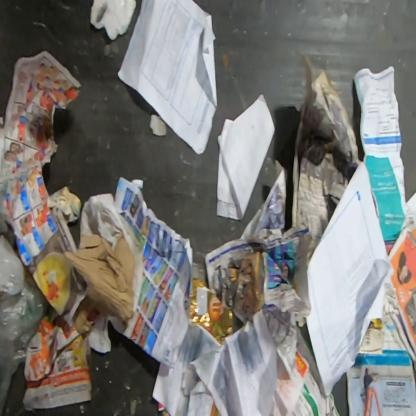cardboard: (62, 232, 136, 323)
soft_plastic: (0, 284, 45, 415), (189, 278, 233, 345), (0, 231, 27, 298), (209, 400, 222, 415), (158, 401, 168, 415)
